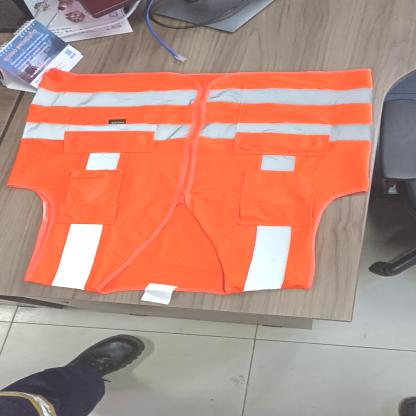colete: (6, 66, 377, 296)
